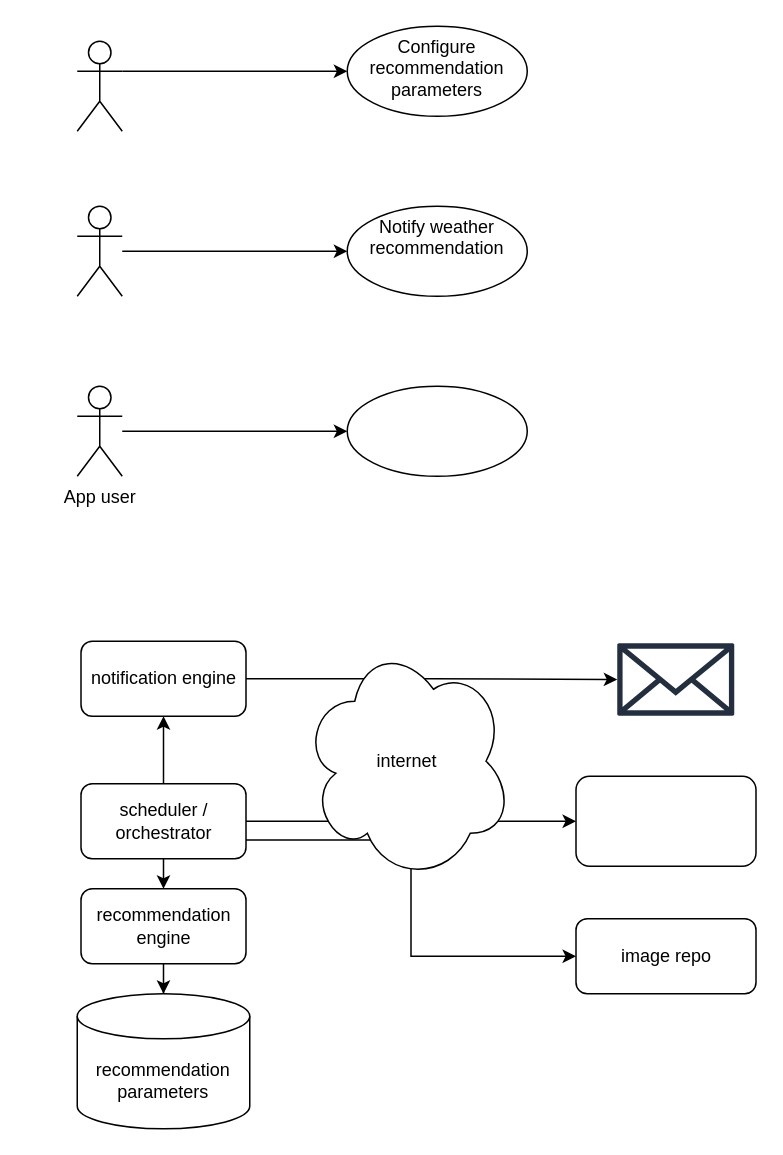
Image size: 783x1155. Some labels were removed from this diagram. Here are the shapes that lost their labels. From the top down, the centre of each, then its label:
the point at 99,85: Admin
the point at 99,250: Mom recommends App
the point at 436,430: Receive weather recommendations
the point at 675,679: Weather Notification
the point at 665,820: Weather api
